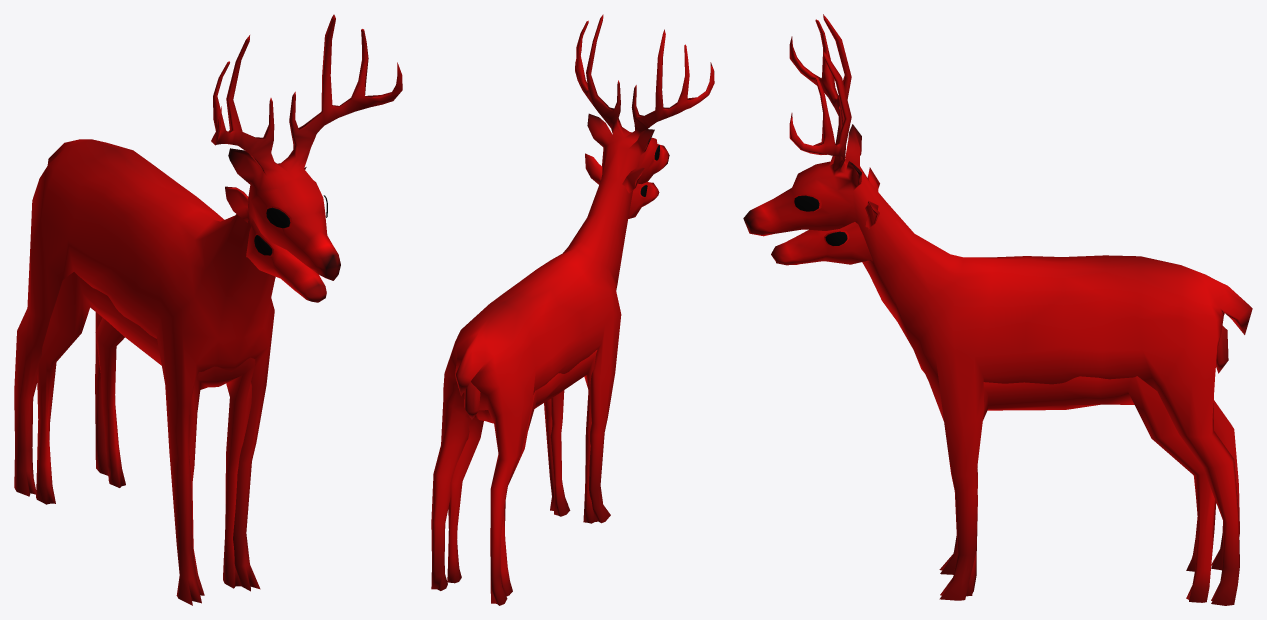
File: Deer.glb
3 views of the same model, side by side, from view 1: azimuth 30°, elevation 25°; view 2: azimuth 150°, elevation 25°; view 3: azimuth 270°, elevation 25° (orthographic). The views are drawn at different scales.
Visible parts, largest first — view 1: alt584; view 2: alt584; view 3: alt584.
Boxes of the visible parts, x1,y1,x2,y2 form: alt584: (14, 14, 402, 605); alt584: (431, 14, 714, 605); alt584: (743, 14, 1252, 605).
Size of the model in its own units: 69.6 by 221 by 184.
